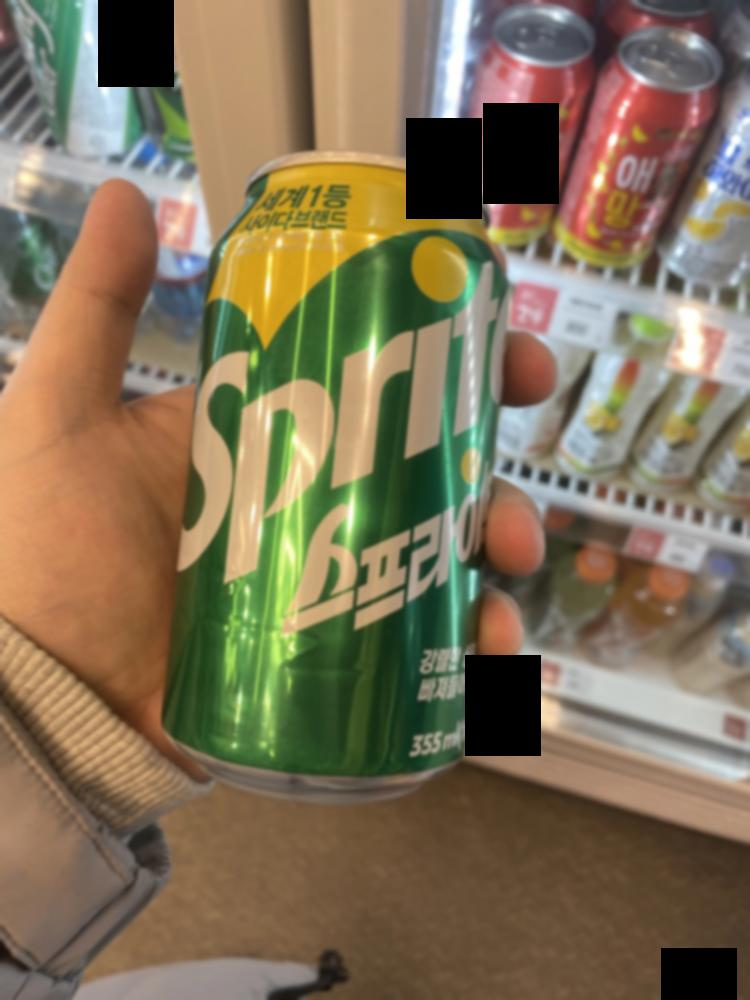sprite: (161, 135, 495, 810)
